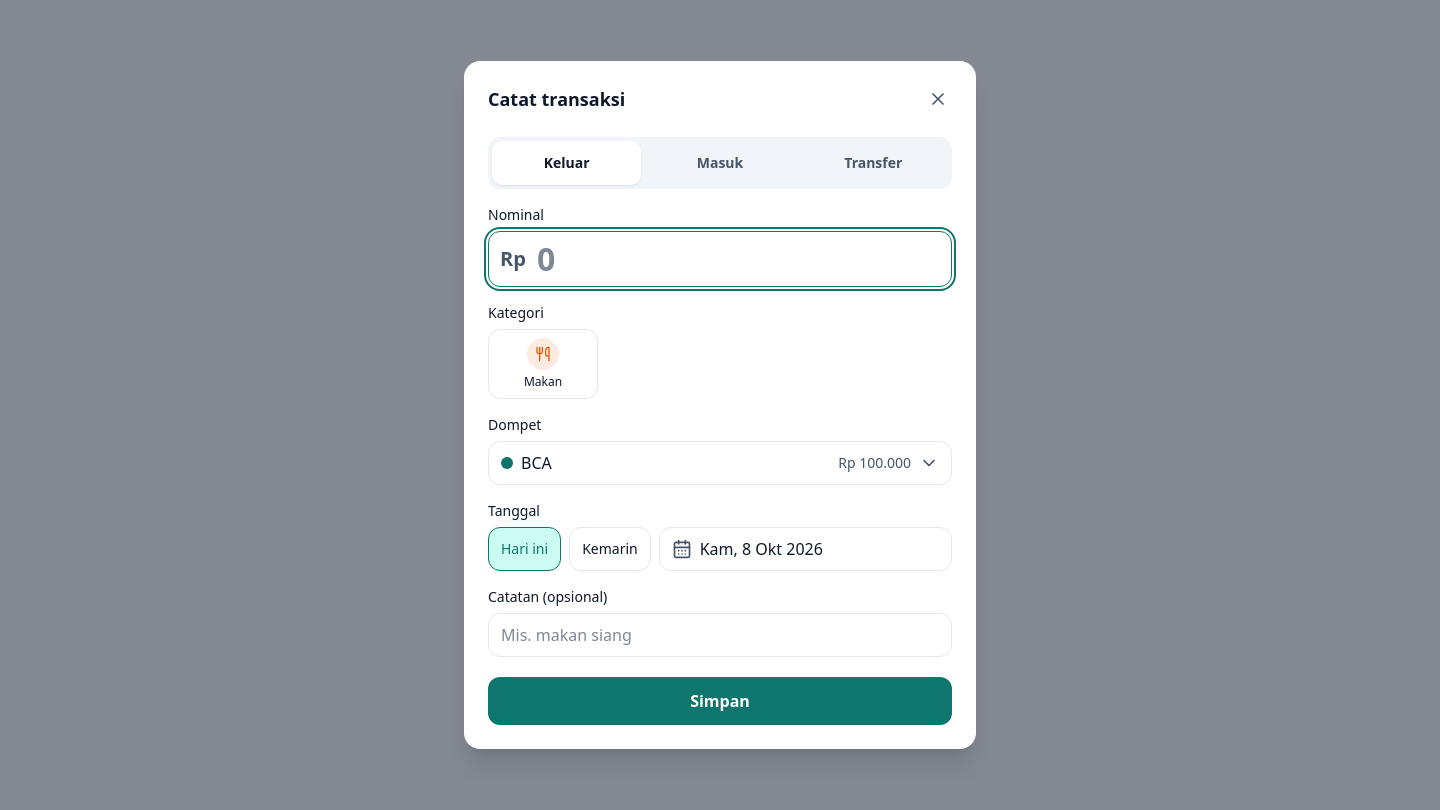
Test case: TransactionSheet (catat cepat) › memperingatkan bila pengeluaran membuat anggaran kategori ≥ 80%
Click the radio button labelled "Makan".
click(543, 364)  # box [488,329,598,399]
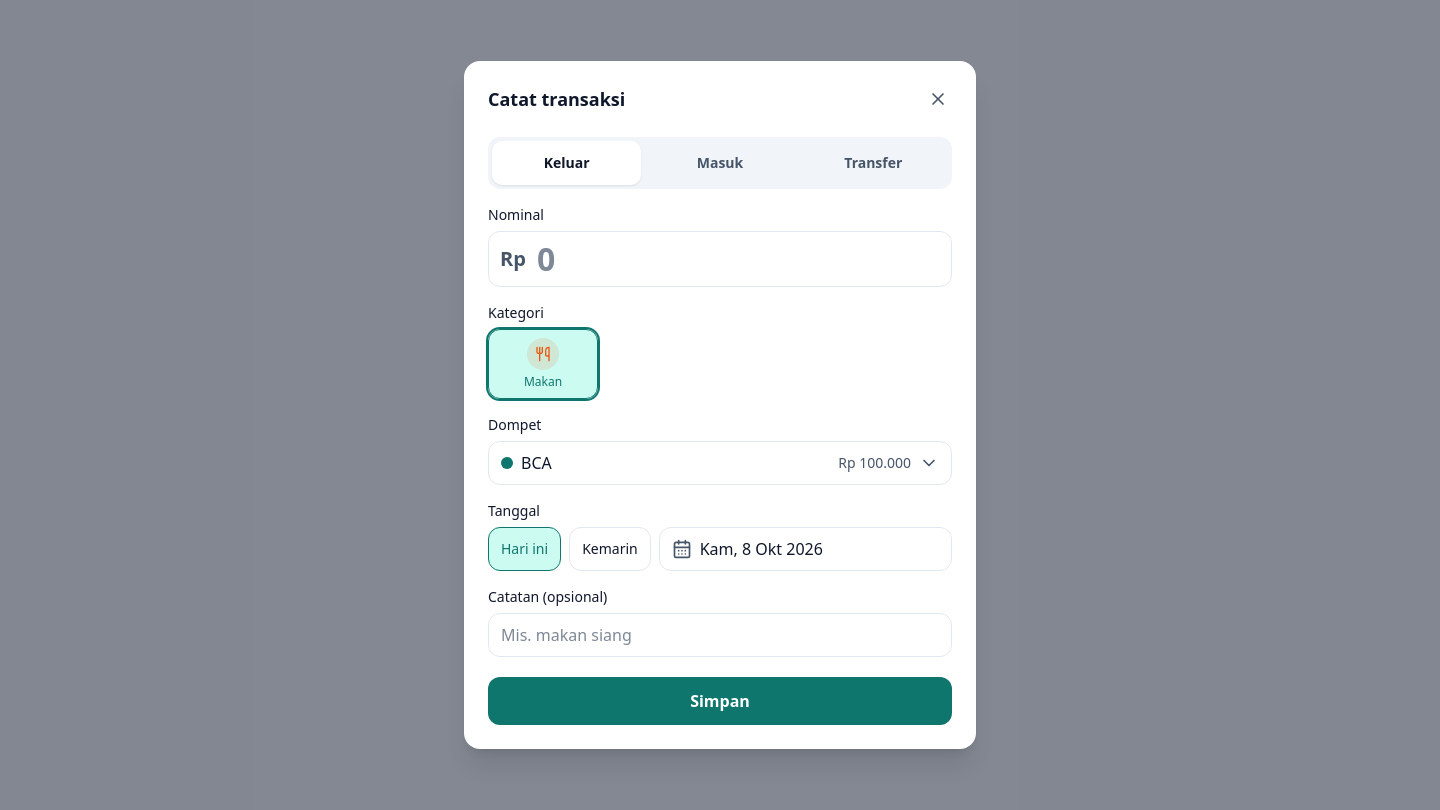
Type "25000" into the field labelled "Nominal".
click(720, 259); type("25000")  # box [488,231,952,287]
Then press Enter
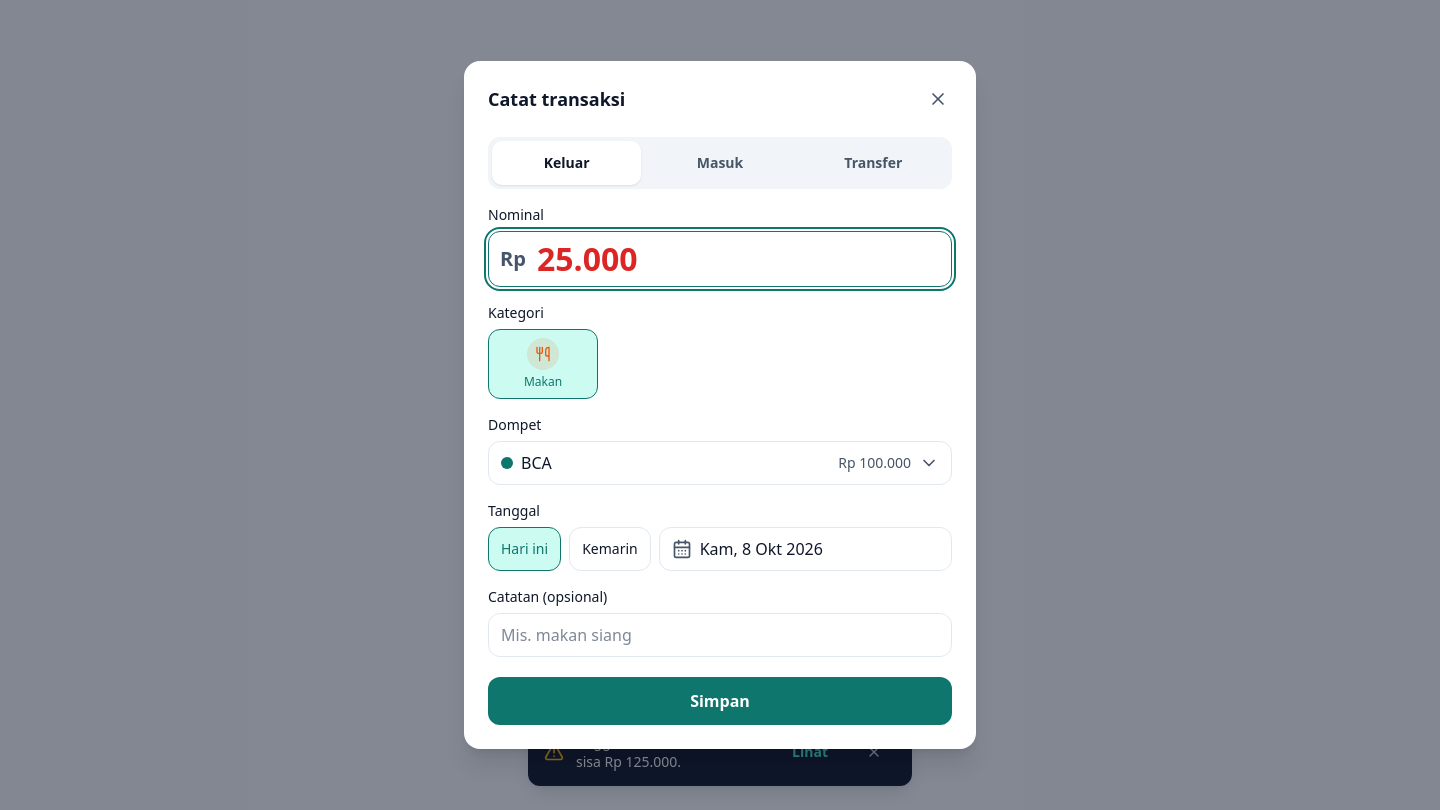
Check: the text "Anggaran Makan sudah 87%, sisa Rp 125.000." is shown, box [576,732,768,772]
Check: the button "Lihat" is shown, box [780,730,840,774]
